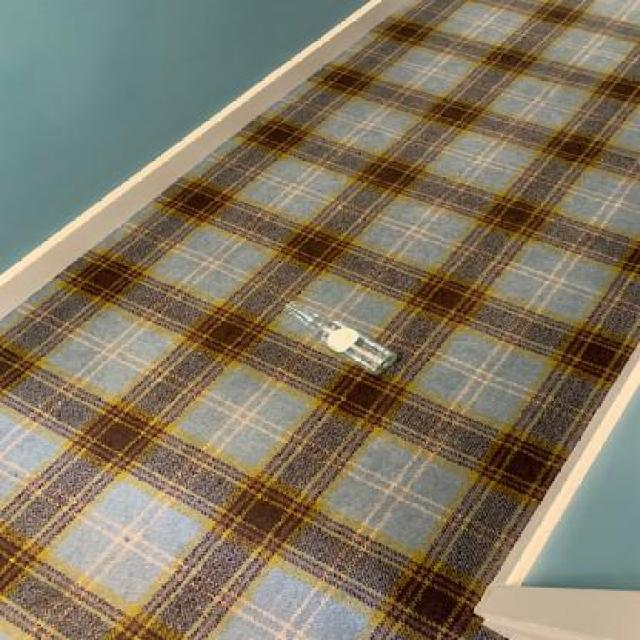trash: (282, 298, 406, 382)
